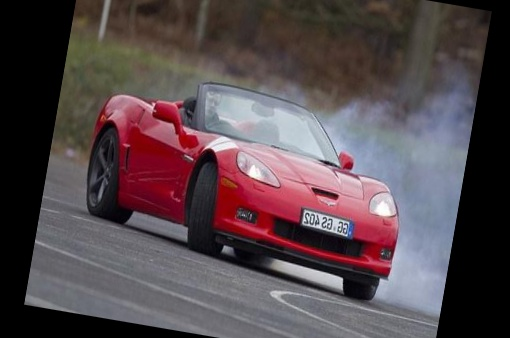car: (59, 49, 445, 319)
